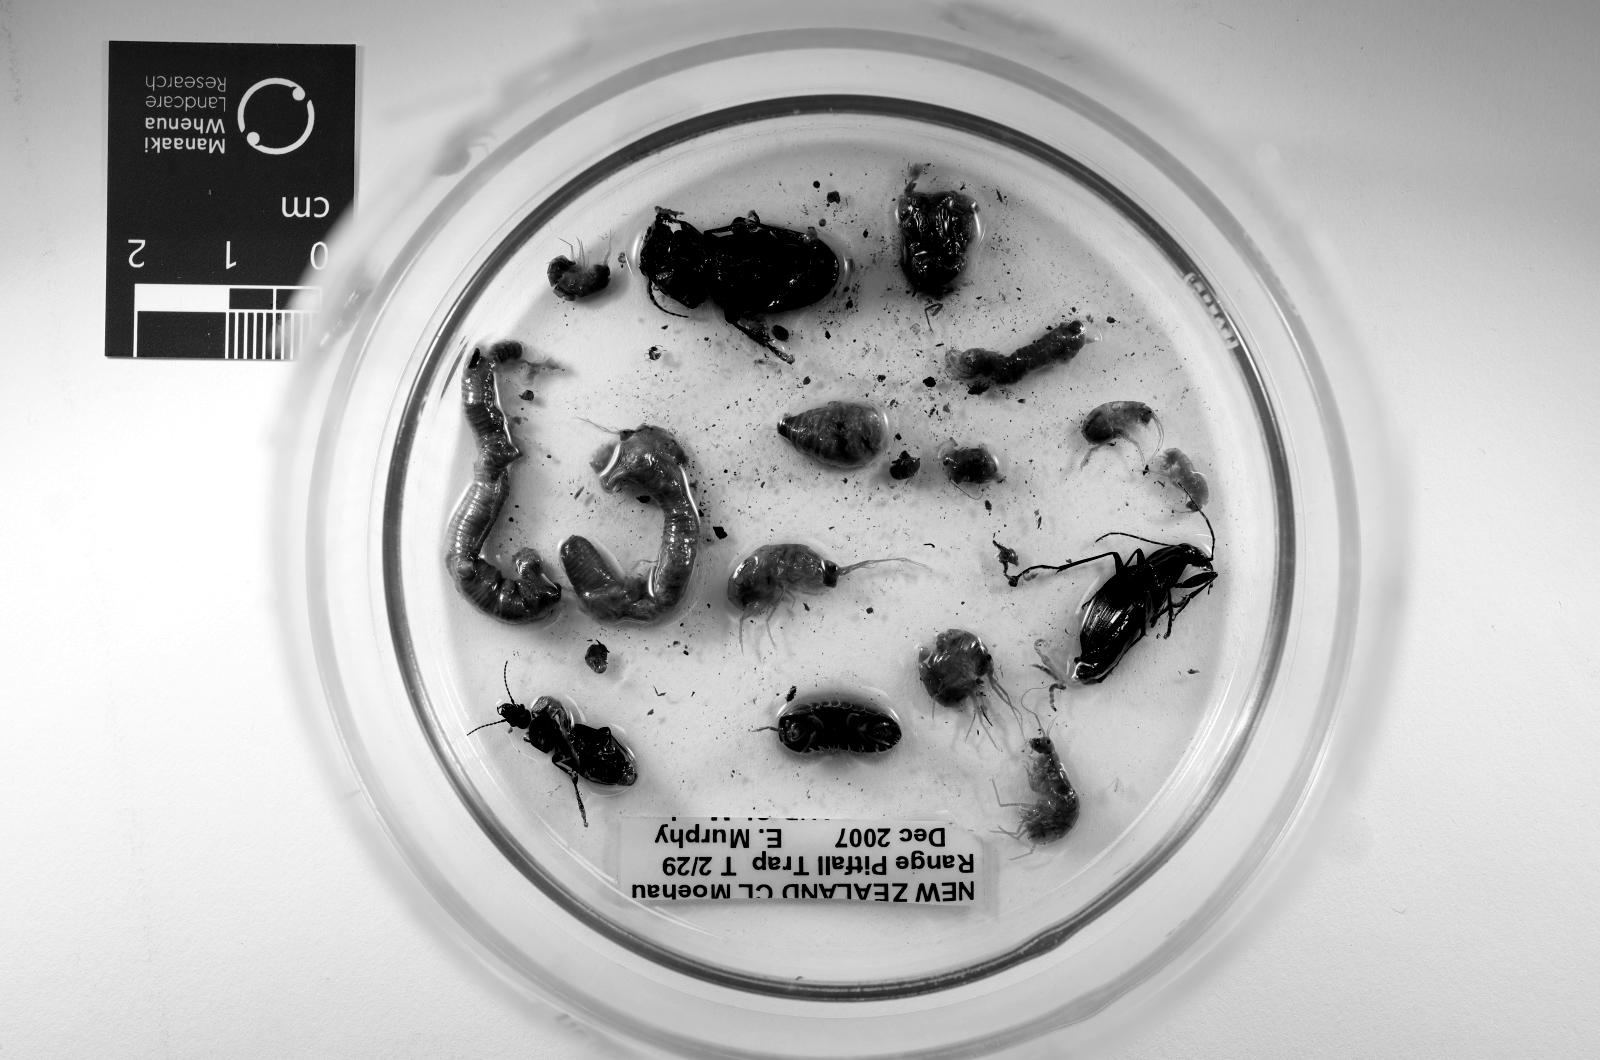amphipoda: (728, 543, 909, 618), (994, 736, 1078, 854), (1081, 401, 1162, 466), (1153, 447, 1209, 512), (547, 258, 609, 301)
annelida: (444, 342, 559, 624), (559, 425, 700, 621)
carabidae: (1006, 543, 1219, 683), (638, 208, 841, 332), (497, 696, 638, 823)
isopoda: (769, 699, 900, 755)
